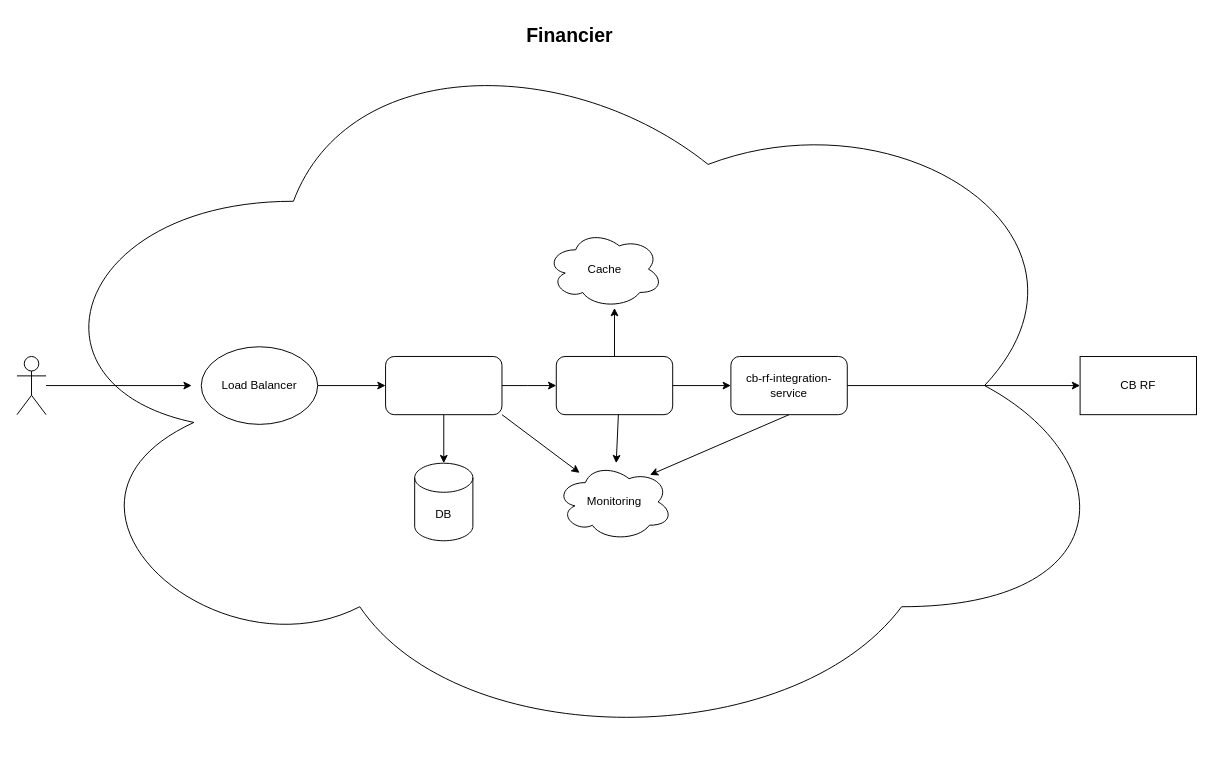
Some shapes in this 1213 by 771 pixel diagram are drawn without their labels. The shapes that lost their labels are listed below. From the top down, each one's box as (x1, y1, x2, y2) in pixels, then its label:
(16, 356, 46, 415): Actor
(385, 356, 502, 415): asset-service
(555, 356, 673, 415): currency-service
